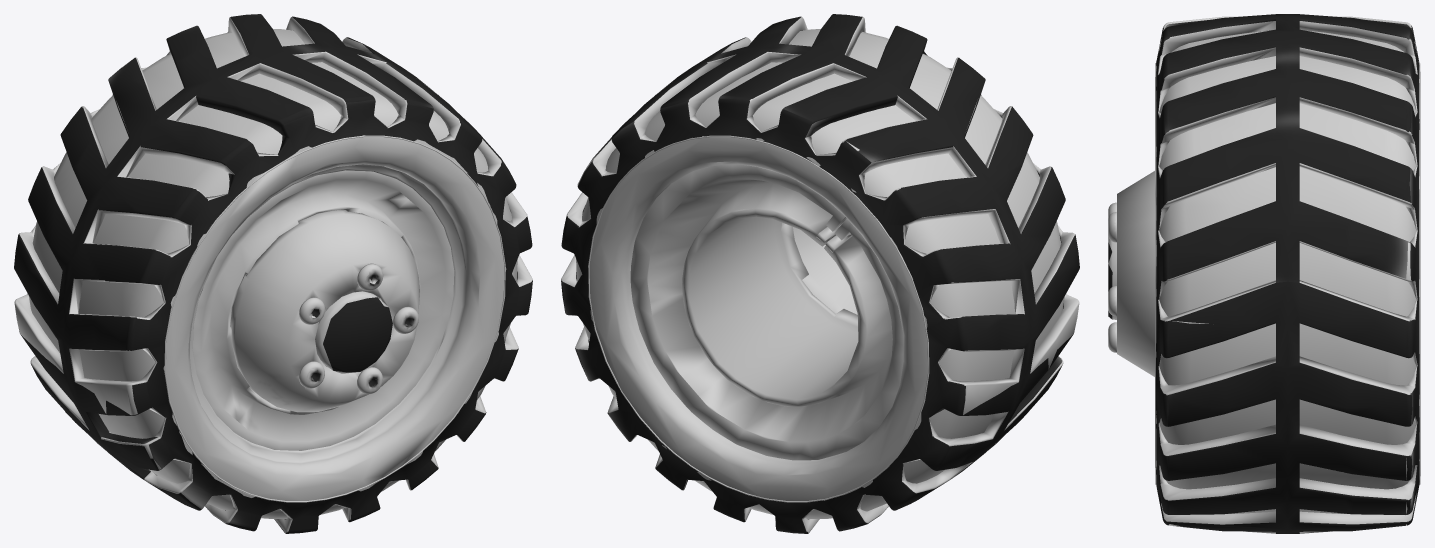
The model's file is WheelA_v2.dae.
3 views of the same model, side by side, from view 1: azimuth 30°, elevation 25°; view 2: azimuth 150°, elevation 25°; view 3: azimuth 270°, elevation 25° (orthographic). The views are drawn at different scales.
Visible parts, largest first — view 1: simple_wheel_a; view 2: simple_wheel_a; view 3: simple_wheel_a.
Boxes of the visible parts, x1,y1,x2,y2 form: simple_wheel_a: (14,14,532,533); simple_wheel_a: (561,14,1079,533); simple_wheel_a: (1108,14,1420,533).
Size of the model in its own units: 0.1297 by 0.0781 by 0.1298.
Materials: 1 (1 with a texture image).
